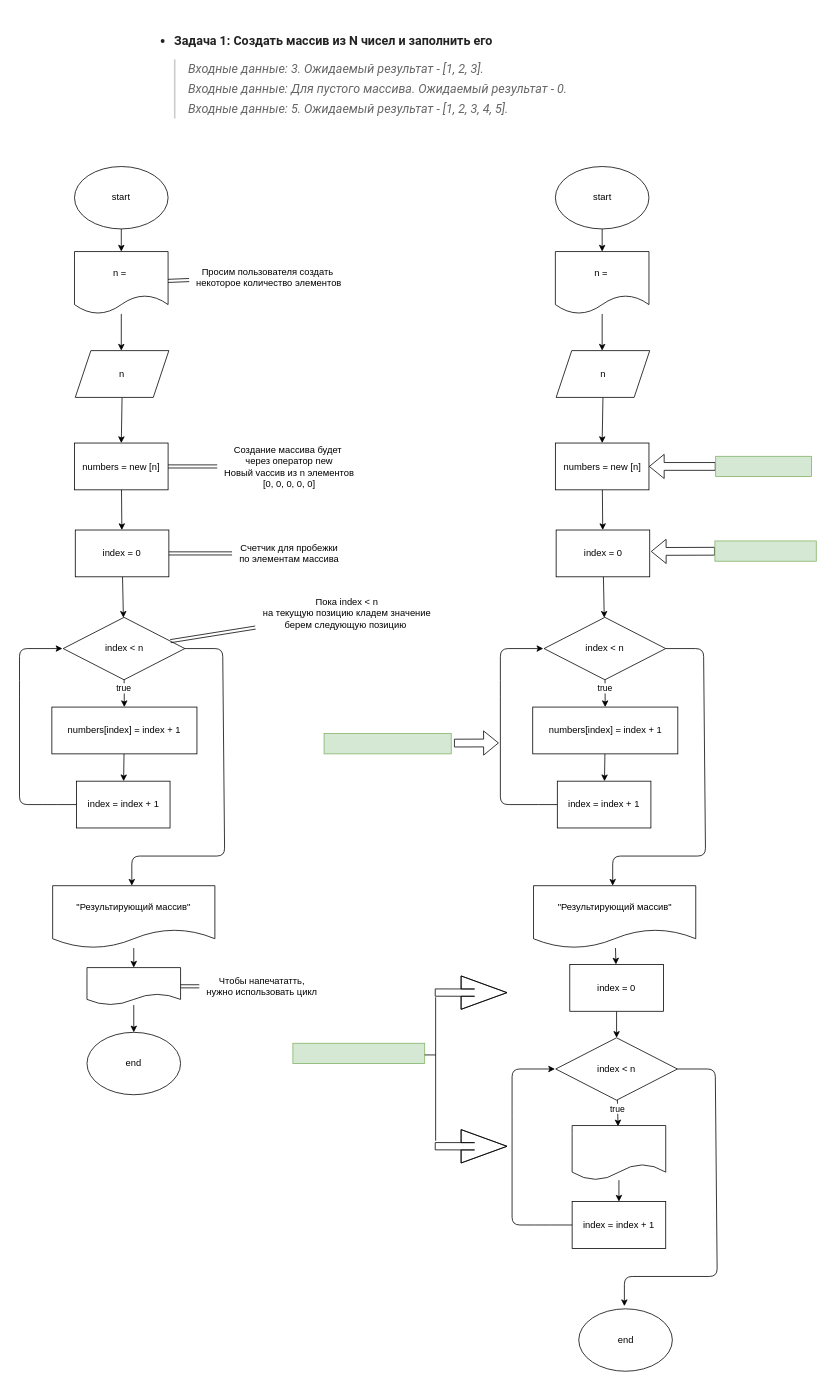
This 830x1385 diagram has some shape labels left out. Each missing label, with the centre of its shape:
"1. Заводим массив" belongs at pixel 763 466.
"2. Обнуляем индекс" belongs at pixel 765 550.
"3. Цикл заполняет массив" belongs at pixel 387 743.
"4. Вывод массива на экран" belongs at pixel 358 1053.
"numbers" belongs at pixel 133 986.
"numbers[index]" belongs at pixel 618 1152.
